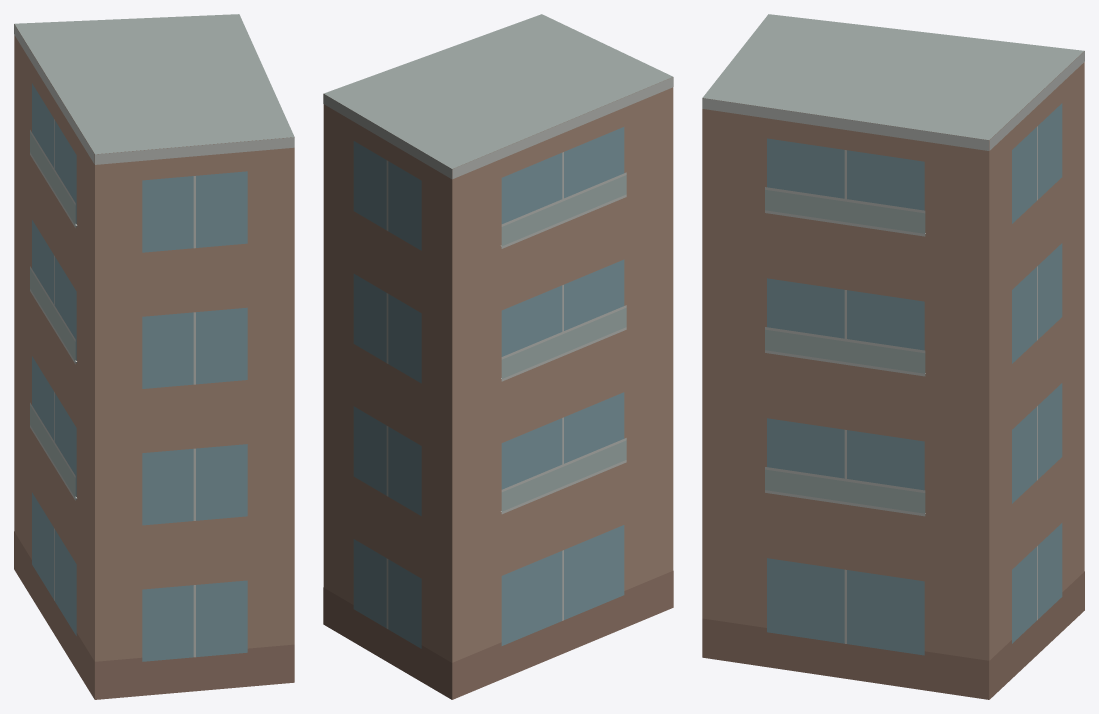
File: survey-upis-32725290.glb
3 views of the same model, side by side, from view 1: azimuth 30°, elevation 25°; view 2: azimuth 150°, elevation 25°; view 3: azimuth 270°, elevation 25° (orthographic). The views are drawn at different scales.
Parts seen in each view (by area): view 1: survey-upis-32725290.tmp; view 2: survey-upis-32725290.tmp; view 3: survey-upis-32725290.tmp.
Part boxes in pixels (x1=…): survey-upis-32725290.tmp: x1=14, y1=14, x2=294, y2=699; survey-upis-32725290.tmp: x1=323, y1=14, x2=673, y2=699; survey-upis-32725290.tmp: x1=702, y1=14, x2=1084, y2=699.
Bounding box in the file's own units: 6.05 × 12.5 × 7.75.
